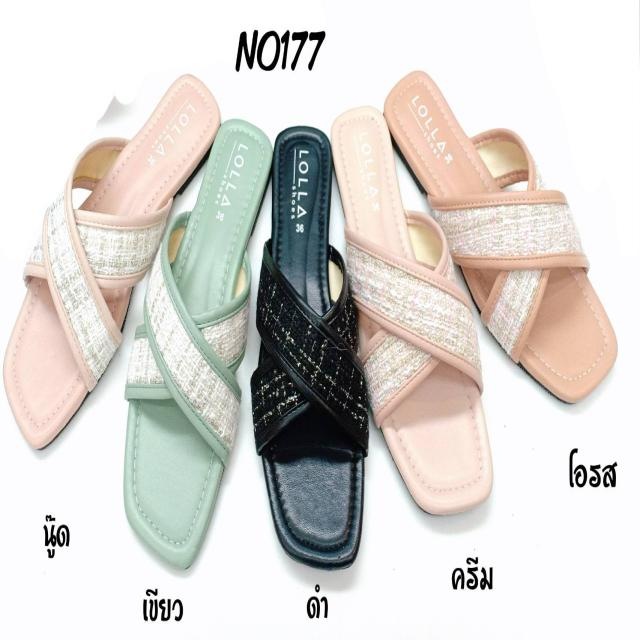black: (255, 124, 364, 564)
cream: (328, 112, 494, 514)
green: (122, 119, 271, 568)
nood: (3, 70, 216, 453)
orot: (385, 65, 616, 412)
